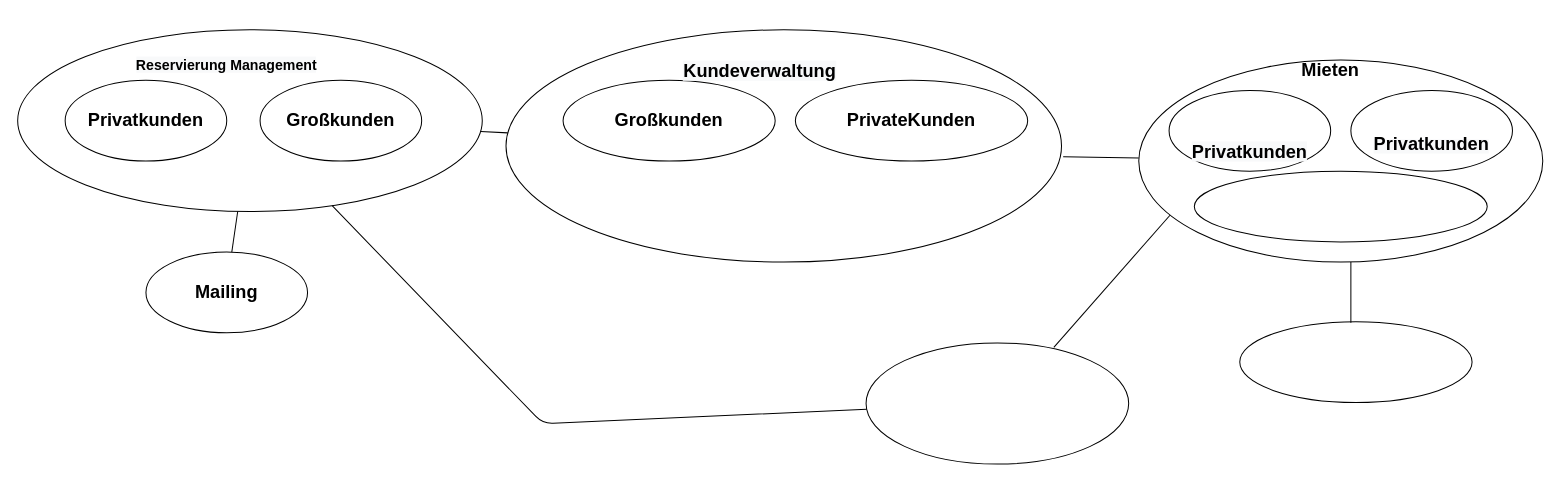
Image size: 1560x482. Some labels were removed from this diagram. The box of each missing label's shape, as (x1, y1, x2, y2) in pixels:
AutoManagement: (865, 342, 1129, 464)
Rechnungwessen: (1239, 321, 1472, 402)
Zahlang Verwaltung: (1193, 170, 1487, 242)
